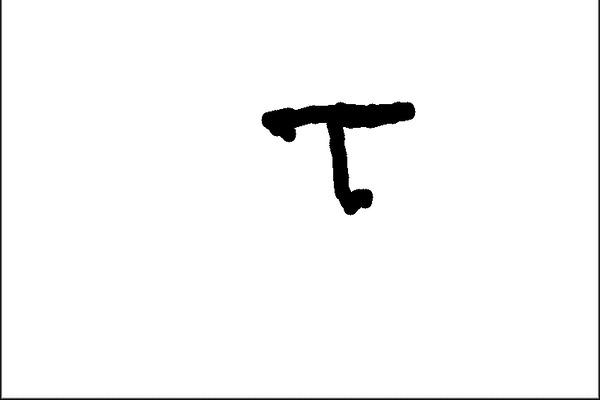T: (249, 83, 430, 223)
